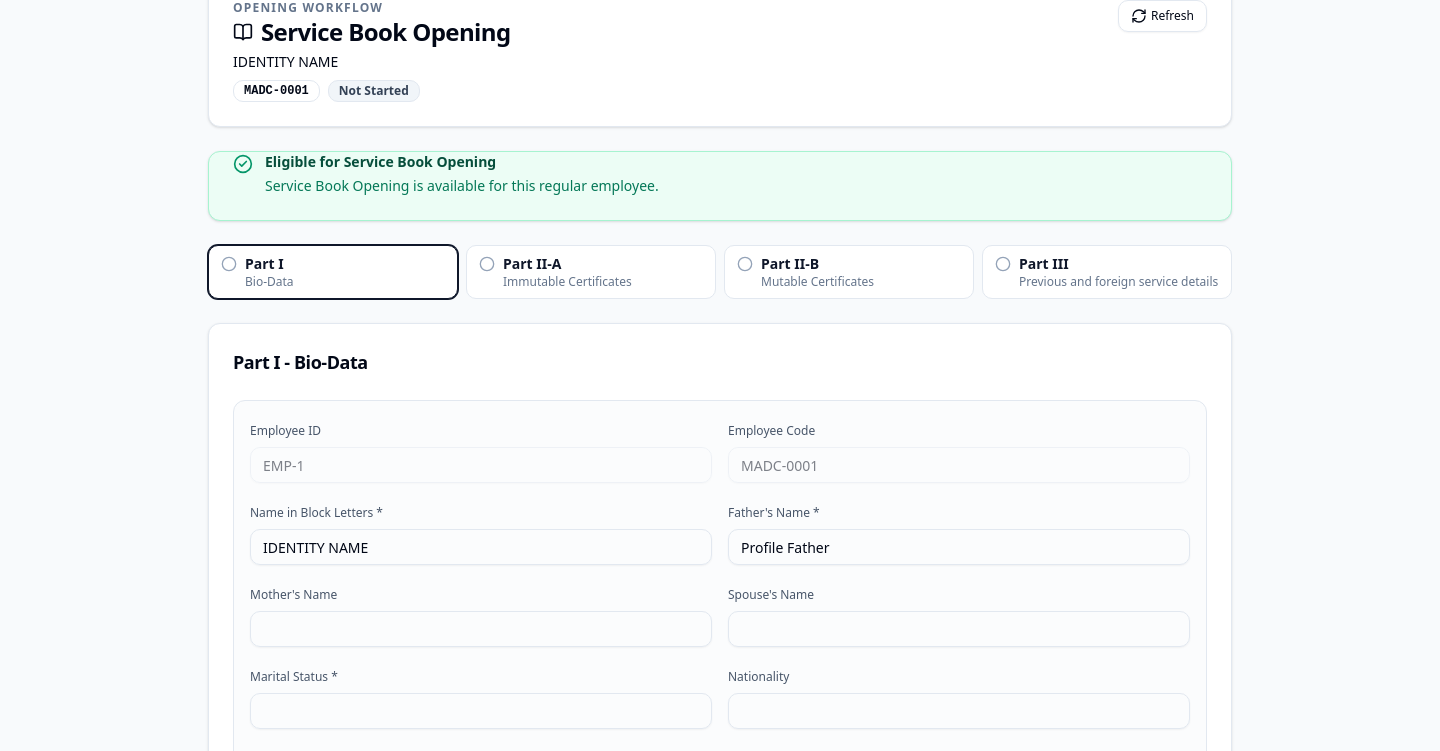
ServiceBookOpeningPage › uses top step cards as tabs and renders the selected part form
The width and height of the screenshot is (1440, 751).
Expected: the element with test id "opening-stepper" is shown, [208,245,1232,299]
Expected: the text "Bio-Data" is shown, [245,274,294,290]
What coordinates should you click on to do the following:
click the tab with test id "opening-step-tab-part_iii"
I would click on:
 (1107, 272)
Its box is [982,245,1232,299].
(page scrolled)
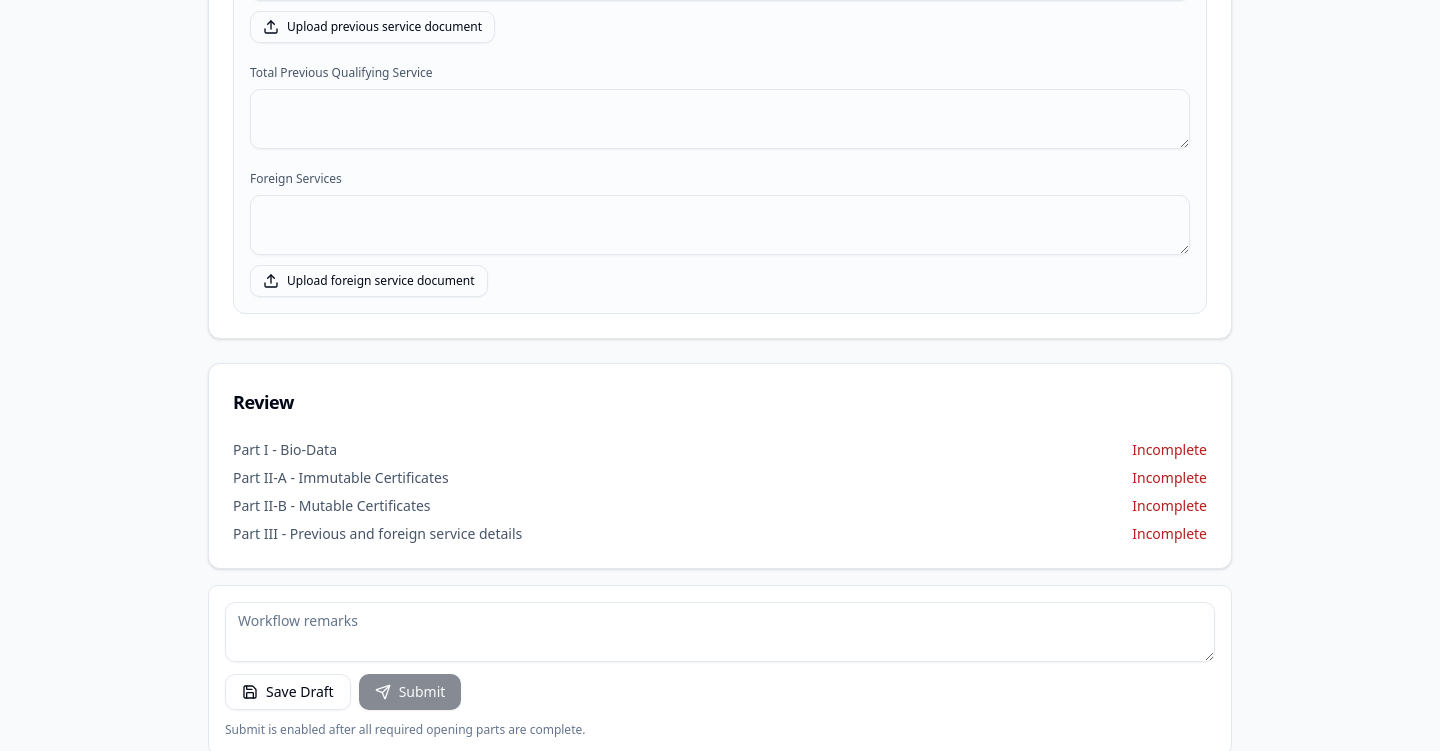
Result: the label labelled "Name in Block Letters *" is gone
Result: the text box labelled "Foreign Services" is shown at [250,195,1190,255]
Result: the button "Upload previous service document" is shown at [250,11,495,43]
